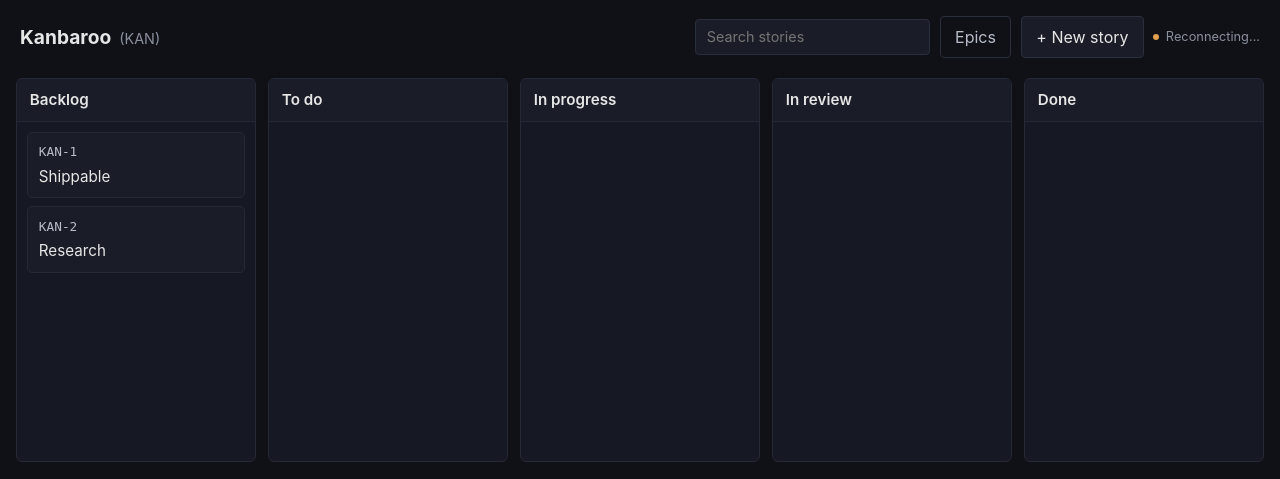
Test: Board › Escape clears and hides the board search
expect the text "KAN-1" is shown: met, box [39, 142, 77, 161]
Type "ship" into the search field labelled "Search stories" at (812, 37), box [700, 21, 924, 53]
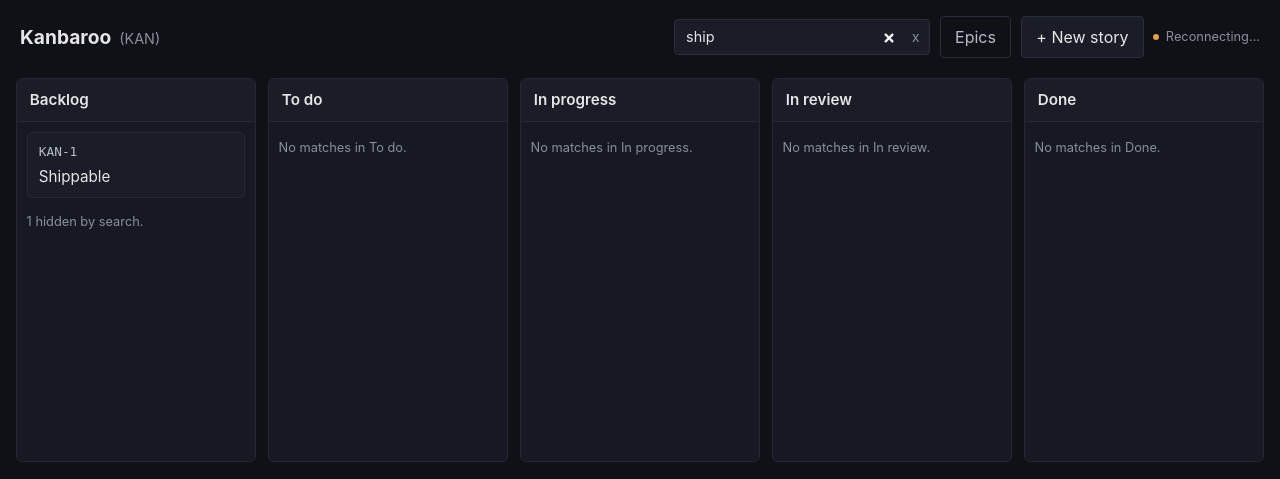
Press Escape in the search field named "Search stories", box [680, 21, 904, 53]
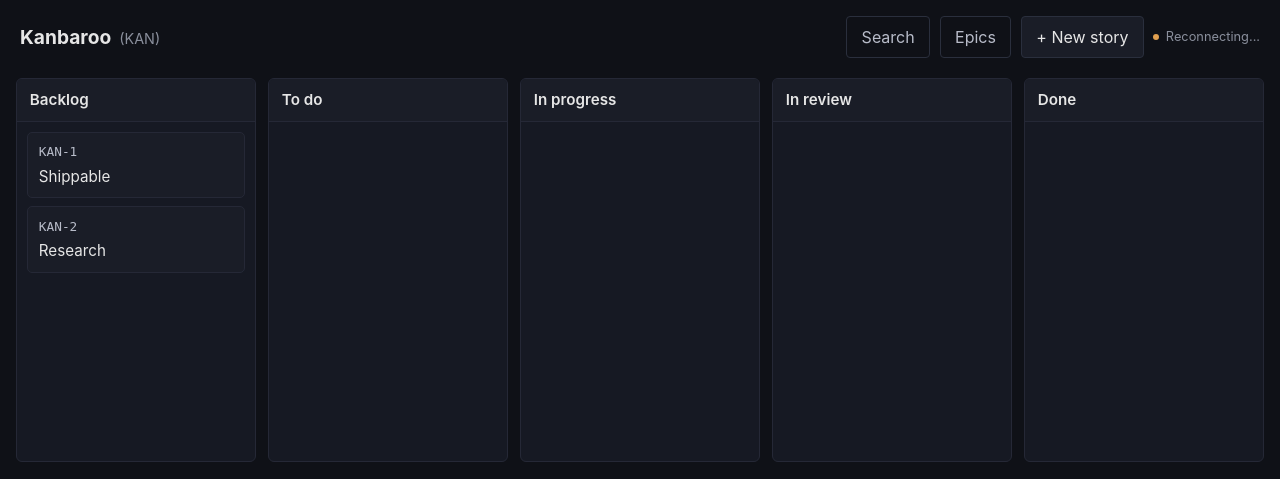
expect the search field labelled "search stories" is not shown: met
expect the text "Research" is shown: met, box [39, 241, 106, 260]
